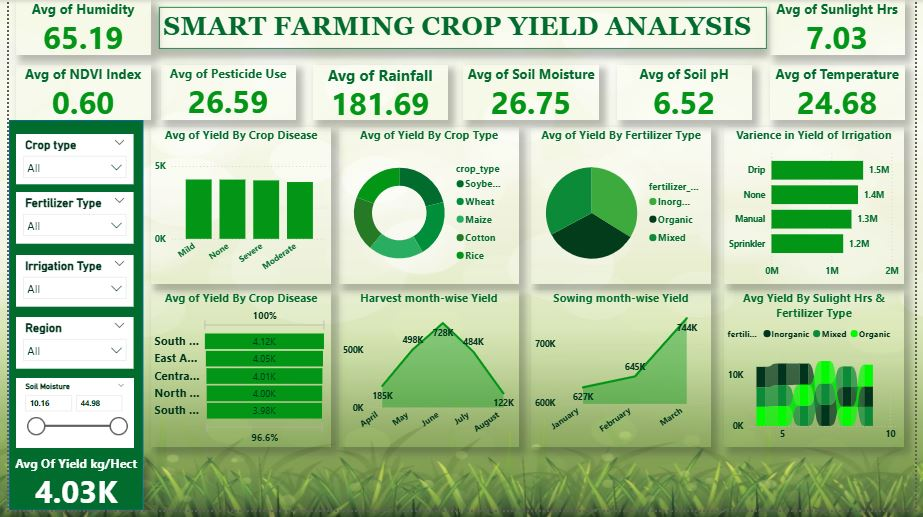

The dashboard page shown, as its layout file describes it:
{"tool":"powerbi","page":{"name":"Page 1","canvas":[1280,720],"ordinal":0},"visuals":[{"type":"card","title":"Avg of Humidity","fields":{"Values":["Avg(Smart_Farming_Crop_Yield_2024.humidity_%)"]},"box":[10.3,0,189.6,77.9],"z":0},{"type":"card","title":"Avg of  NDVI Index","fields":{"Values":["Avg(Smart_Farming_Crop_Yield_2024.NDVI_index)"]},"box":[10.3,91.1,189.6,77.9],"z":1000},{"type":"card","title":"Avg of Pesticide Use","fields":{"Values":["Avg(Smart_Farming_Crop_Yield_2024.pesticide_usage_ml)"]},"box":[214.5,91.1,189.6,77.9],"z":2000},{"type":"card","title":"Avg of Rainfall ","fields":{"Values":["Avg(Smart_Farming_Crop_Yield_2024.rainfall_mm)"]},"box":[429.1,91.1,189.6,77.9],"z":3000},{"type":"card","title":"Avg of Soil Moisture","fields":{"Values":["Avg(Smart_Farming_Crop_Yield_2024.soil_moisture_%)"]},"box":[640.7,91.1,192.5,77.9],"z":4000},{"type":"card","title":"Avg of Sunlight Hrs","fields":{"Values":["Avg(Smart_Farming_Crop_Yield_2024.sunlight_hours)"]},"box":[1074.1,0,189.6,77.9],"z":5000},{"type":"card","title":"Avg of  Soil pH","fields":{"Values":["Avg(Smart_Farming_Crop_Yield_2024.soil_pH)"]},"box":[858.1,91.1,189.6,77.9],"z":6000},{"type":"card","title":"Avg of Temperature","fields":{"Values":["Avg(Smart_Farming_Crop_Yield_2024.temperature_C)"]},"box":[1074.1,91.1,189.6,77.9],"z":7000},{"type":"textbox","box":[211.6,10.3,858.1,58.8],"z":8000},{"type":"card","title":"Avg of Yield/kg Hect","fields":{"Values":["Avg(Smart_Farming_Crop_Yield_2024.yield_kg_per_hectare)"]},"box":[4.4,642.1,177.8,77.9],"z":9000},{"type":"columnChart","title":"Avg of Yield By Crop Disease","fields":{"Category":["Smart_Farming_Crop_Yield_2024.crop_disease_status"],"Y":["Avg(Smart_Farming_Crop_Yield_2024.yield_kg_per_hectare)"]},"box":[199.8,179.3,254.2,221.9],"z":10000},{"type":"donutChart","title":"Avg of Yield By Crop Type","fields":{"Category":["Smart_Farming_Crop_Yield_2024.crop_type"],"Y":["Avg(Smart_Farming_Crop_Yield_2024.yield_kg_per_hectare)"]},"box":[465.8,179.3,254.2,221.9],"z":11000},{"type":"pieChart","title":"Avg of Yield By Fertilizer Type","fields":{"Y":["Avg(Smart_Farming_Crop_Yield_2024.yield_kg_per_hectare)"],"Category":["Smart_Farming_Crop_Yield_2024.fertilizer_type"]},"box":[737.6,179.3,254.2,221.9],"z":12000},{"type":"barChart","title":"Varience in Yield of Irrigation","fields":{"Category":["Smart_Farming_Crop_Yield_2024.irrigation_type"],"Y":["Avg(Smart_Farming_Crop_Yield_2024.yield_kg_per_hectare)"]},"box":[1009.5,179.3,254.2,221.9],"z":13000},{"type":"funnel","title":"Avg of Yield By Crop Disease","fields":{"Category":["Smart_Farming_Crop_Yield_2024.region"],"Y":["Avg(Smart_Farming_Crop_Yield_2024.yield_kg_per_hectare)"]},"box":[199.8,410,254.2,221.9],"z":14000},{"type":"areaChart","title":"Harvest month-wise Yield","fields":{"Y":["Sum(Smart_Farming_Crop_Yield_2024.yield_kg_per_hectare)"],"Category":["Smart_Farming_Crop_Yield_2024.harvest_date.Variation.Date Hierarchy.Month"]},"box":[465.8,410,254.2,221.9],"z":15000},{"type":"areaChart","title":"Sowing month-wise Yield","fields":{"Y":["Sum(Smart_Farming_Crop_Yield_2024.yield_kg_per_hectare)"],"Category":["Smart_Farming_Crop_Yield_2024.sowing_date.Variation.Date Hierarchy.Month"]},"box":[737.6,410,254.2,221.9],"z":16000},{"type":"ribbonChart","title":" Avg Yield By Sulight Hrs & Fertilizer Type","fields":{"Y":["Avg(Smart_Farming_Crop_Yield_2024.yield_kg_per_hectare)"],"Category":["Smart_Farming_Crop_Yield_2024.sunlight_hours (bins)"],"Series":["Smart_Farming_Crop_Yield_2024.fertilizer_type"]},"box":[1009.5,410,254.2,221.9],"z":17000},{"type":"shape","box":[0,169,189.6,551],"z":18000},{"type":"slicer","fields":{"Values":["Smart_Farming_Crop_Yield_2024.crop_type"]},"box":[10.3,189.6,166,70.5],"z":19000},{"type":"slicer","fields":{"Values":["Smart_Farming_Crop_Yield_2024.fertilizer_type"]},"box":[10.3,270.4,166,73.5],"z":20000},{"type":"slicer","fields":{"Values":["Smart_Farming_Crop_Yield_2024.irrigation_type"]},"box":[10.3,360,166,73.5],"z":21000},{"type":"slicer","fields":{"Values":["Smart_Farming_Crop_Yield_2024.region"]},"box":[10.3,448.2,166,73.5],"z":22000},{"type":"slicer","fields":{"Values":["Smart_Farming_Crop_Yield_2024.soil_moisture_%"]},"box":[10.3,533.4,166,98.4],"z":23000},{"type":"card","title":"Avg Of Yield kg/Hect","fields":{"Values":["Avg(Smart_Farming_Crop_Yield_2024.yield_kg_per_hectare)"]},"box":[0,642.1,189.6,77.9],"z":24000}]}

Visuals, with their boxes in screenshot pixels (x1, y1, x2, y2), scaled from the page's 1280x720 canvas onto the 923x517 screenshot:
"Avg of Humidity" card: (7, 0, 144, 56)
"Avg of  NDVI Index" card: (7, 65, 144, 121)
"Avg of Pesticide Use" card: (155, 65, 291, 121)
"Avg of Rainfall " card: (309, 65, 446, 121)
"Avg of Soil Moisture" card: (462, 65, 601, 121)
"Avg of Sunlight Hrs" card: (775, 0, 911, 56)
"Avg of  Soil pH" card: (619, 65, 755, 121)
"Avg of Temperature" card: (775, 65, 911, 121)
textbox: (153, 7, 771, 50)
"Avg of Yield/kg Hect" card: (3, 461, 131, 516)
"Avg of Yield By Crop Disease" columnChart: (144, 129, 327, 288)
"Avg of Yield By Crop Type" donutChart: (336, 129, 519, 288)
"Avg of Yield By Fertilizer Type" pieChart: (532, 129, 715, 288)
"Varience in Yield of Irrigation" barChart: (728, 129, 911, 288)
"Avg of Yield By Crop Disease" funnel: (144, 294, 327, 454)
"Harvest month-wise Yield" areaChart: (336, 294, 519, 454)
"Sowing month-wise Yield" areaChart: (532, 294, 715, 454)
" Avg Yield By Sulight Hrs & Fertilizer Type" ribbonChart: (728, 294, 911, 454)
shape: (0, 121, 137, 516)
slicer - Smart_Farming_Crop_Yield_2024.crop_type: (7, 136, 127, 187)
slicer - Smart_Farming_Crop_Yield_2024.fertilizer_type: (7, 194, 127, 247)
slicer - Smart_Farming_Crop_Yield_2024.irrigation_type: (7, 258, 127, 311)
slicer - Smart_Farming_Crop_Yield_2024.region: (7, 322, 127, 375)
slicer - Smart_Farming_Crop_Yield_2024.soil_moisture_%: (7, 383, 127, 454)
"Avg Of Yield kg/Hect" card: (0, 461, 137, 516)
